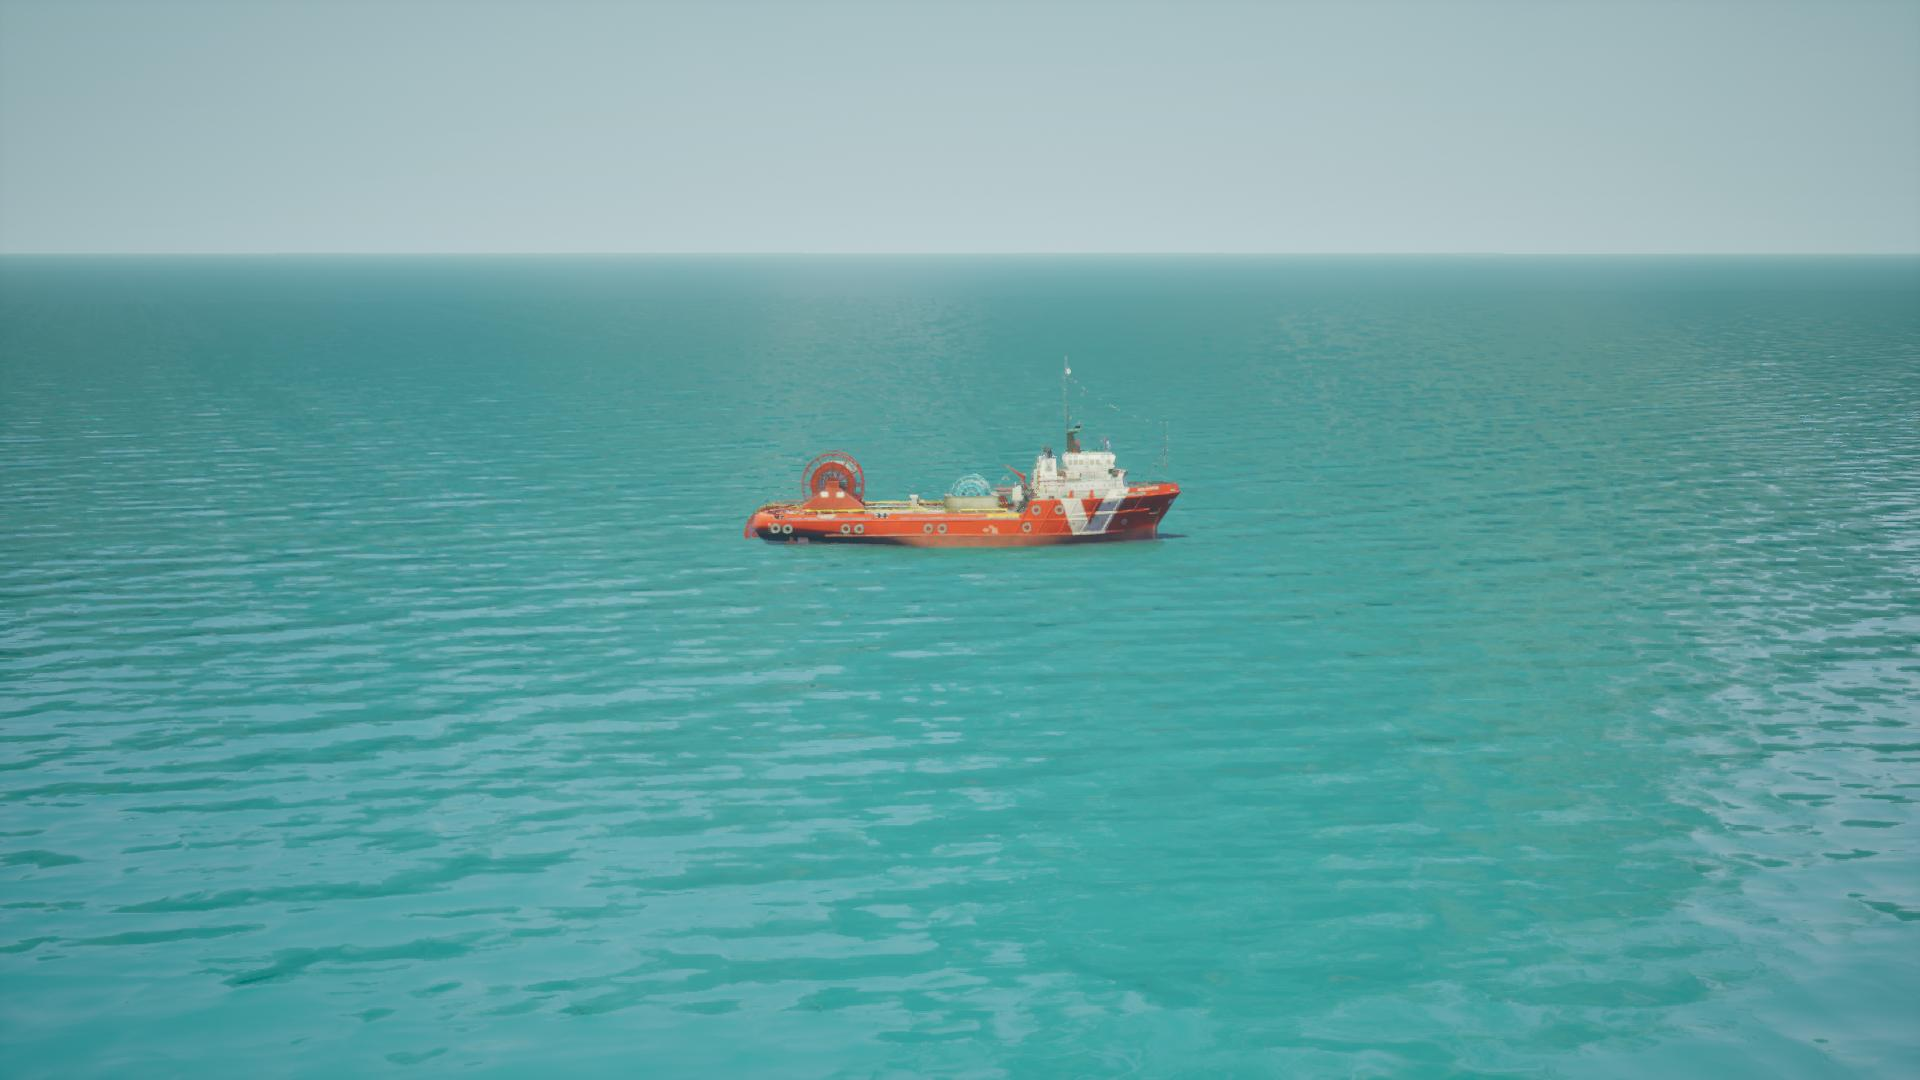Tug Boat: (744, 439, 1193, 554)
